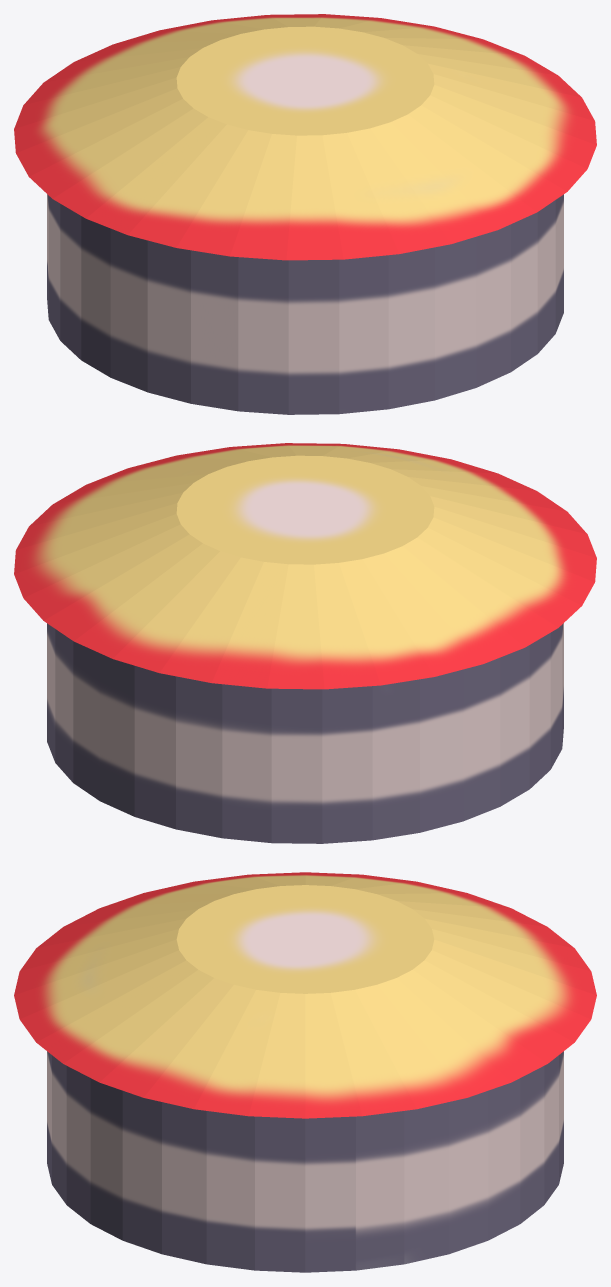
File: elasticColumnfbx.fbx
3 renders of one model, top to bottom at view 1: azimuth 30°, elevation 25°; view 2: azimuth 150°, elevation 25°; view 3: azimuth 270°, elevation 25°, orthographic.
Visible parts, largest first — view 1: Cylinder; view 2: Cylinder; view 3: Cylinder.
Part boxes in pixels (x1,y1,x2,y2): Cylinder: (14,14,596,414); Cylinder: (14,443,596,843); Cylinder: (14,872,596,1272).
Size of the model in its own units: 41.53 by 17.61 by 41.53.
